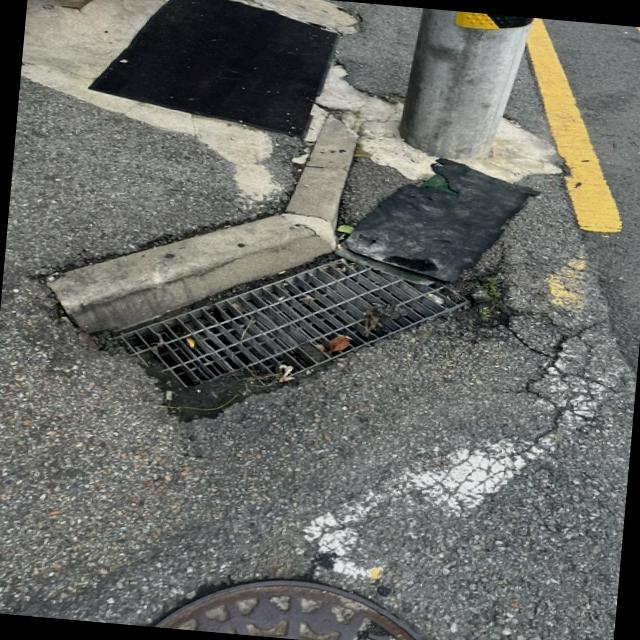drain_area: (152, 267, 448, 386)
drain_full: (105, 245, 468, 420)
